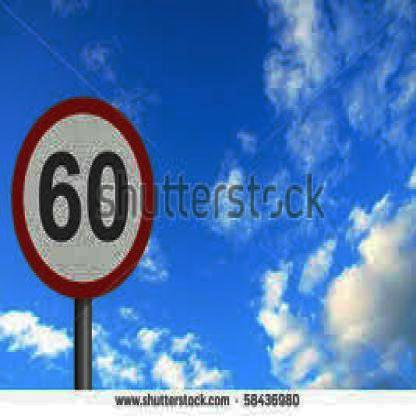Speed Limit -60-: (11, 94, 159, 300)
